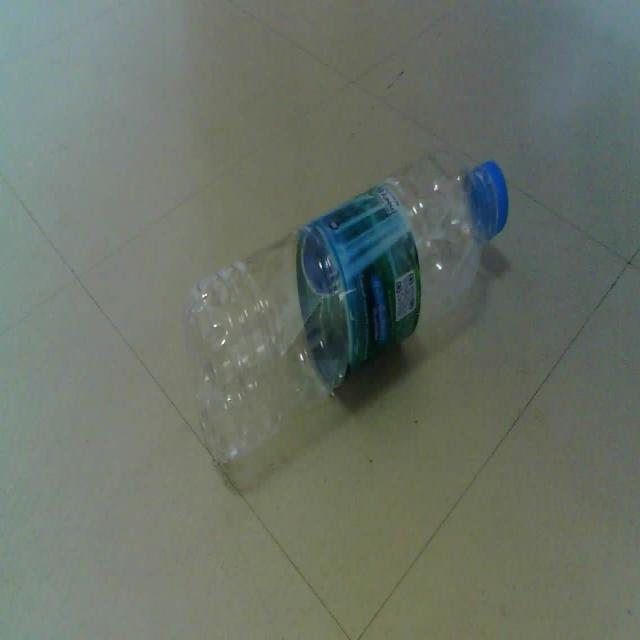empty: (185, 154, 508, 460)
